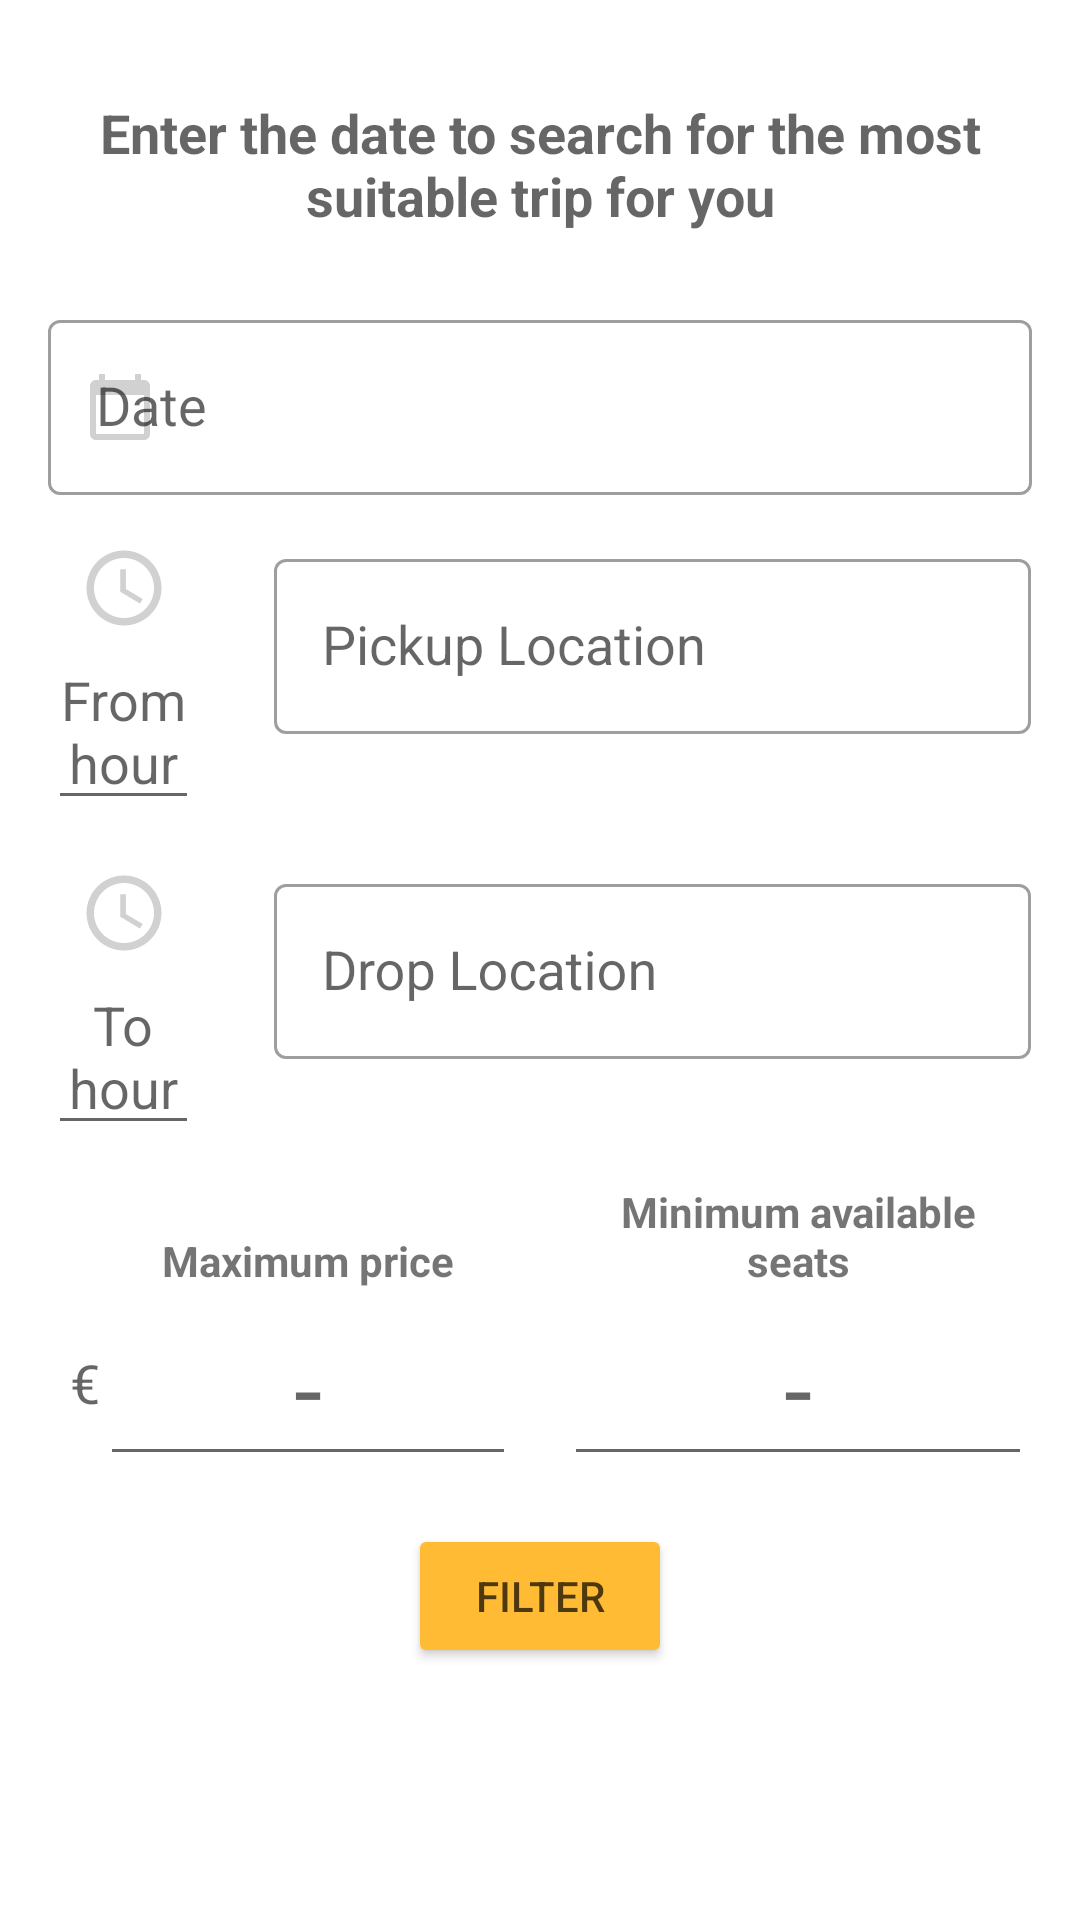

Where icons sit on this 1080 × 1920 app screen, as rect(x1, y1, x2, y2):
access time: rect(87, 551, 161, 625), rect(87, 876, 161, 950)
